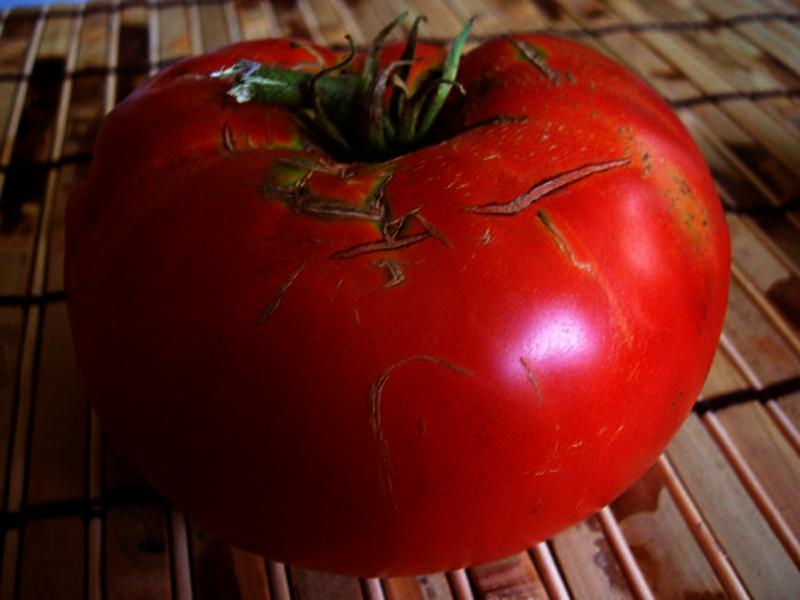Tomato: (65, 32, 729, 568)
